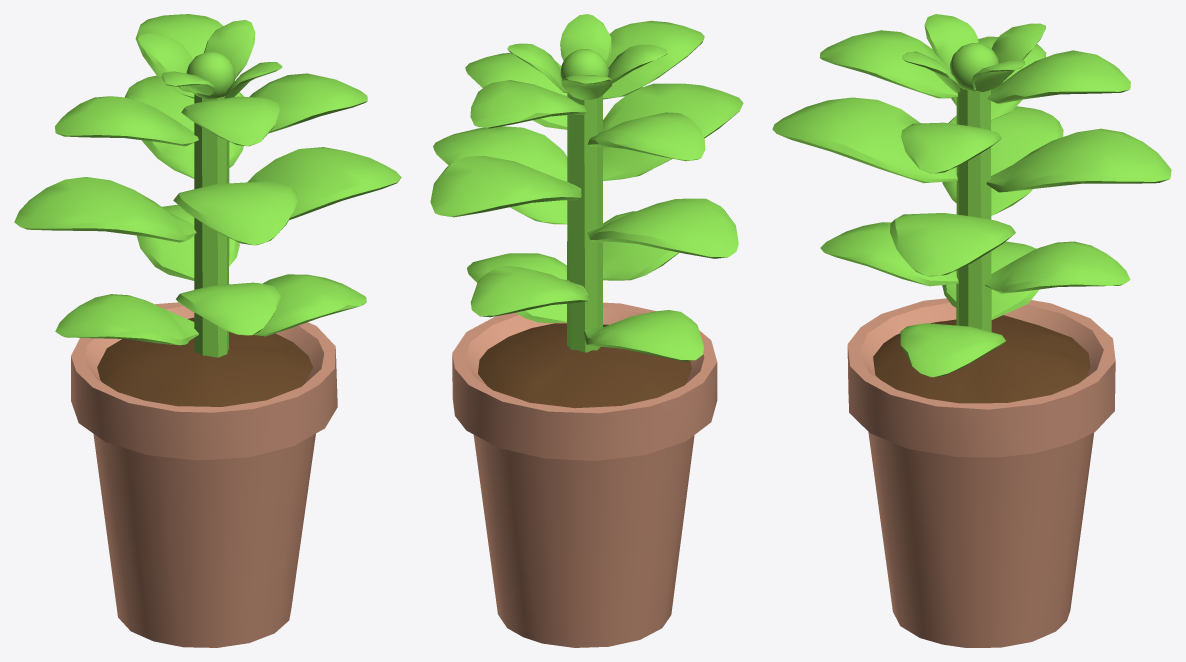
The model's file is Planta2.fbx.
3 views of the same model, side by side, from view 1: azimuth 30°, elevation 25°; view 2: azimuth 150°, elevation 25°; view 3: azimuth 270°, elevation 25° (orthographic).
Visible parts, largest first — view 1: planta 3; view 2: planta 3; view 3: planta 3.
Part boxes in pixels (box(x1,y1,x2,y2)): planta 3: box(14, 14, 401, 647); planta 3: box(430, 14, 743, 647); planta 3: box(772, 14, 1171, 647).
Size of the model in its own units: 109 by 173 by 109.
